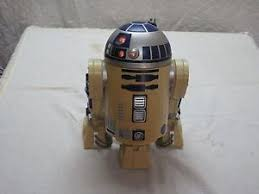r2d2: (82, 18, 189, 170)
